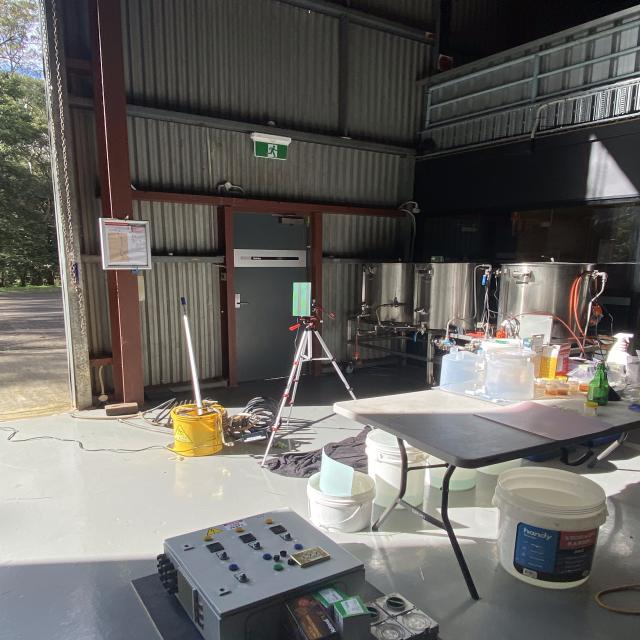matrix: (290, 279, 313, 319)
